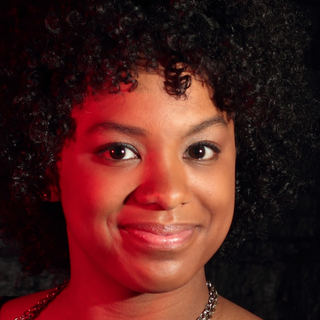eye: (97, 139, 143, 165), (181, 138, 223, 165)
